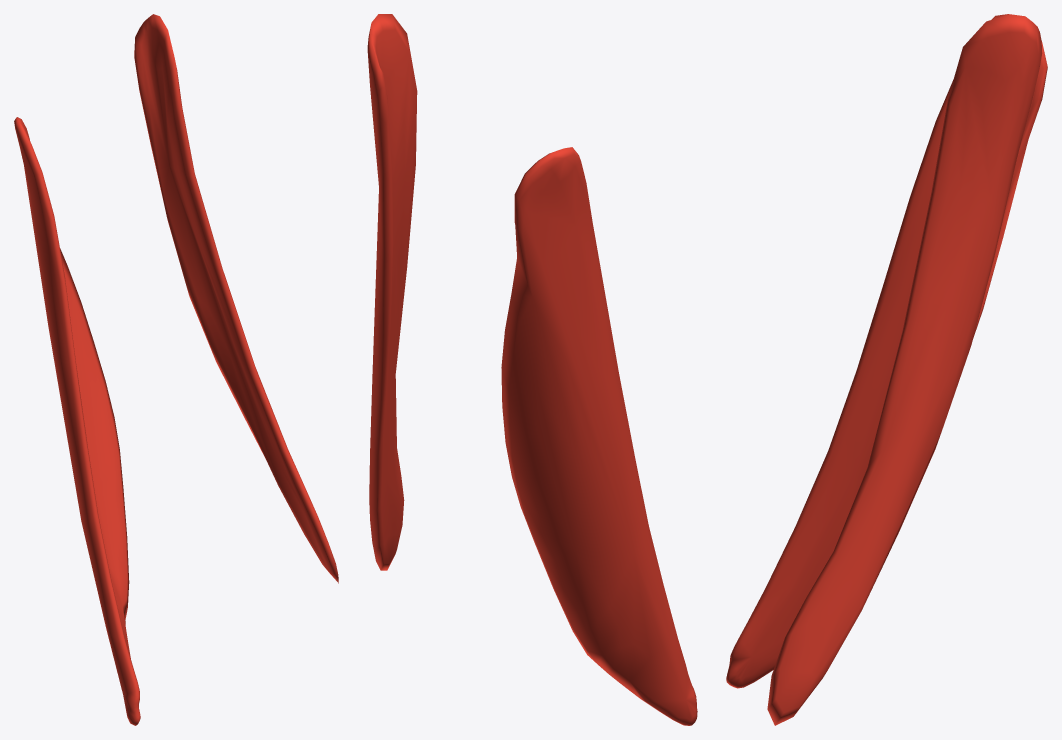
Rendered from Dorsal_interossei_3rd_metacarpal_left.glb.
3 renders of one model, left to right at view 1: azimuth 30°, elevation 25°; view 2: azimuth 150°, elevation 25°; view 3: azimuth 270°, elevation 25°, orthographic. The views are drawn at different scales.
Parts seen in each view (by area): view 1: Dorsal_interosseus_muscles_d_3d_metacarpal_bone.l_Generated_; view 2: Dorsal_interosseus_muscles_d_3d_metacarpal_bone.l_Generated_; view 3: Dorsal_interosseus_muscles_d_3d_metacarpal_bone.l_Generated_.
Part boxes in pixels (x1=…): Dorsal_interosseus_muscles_d_3d_metacarpal_bone.l_Generated_: x1=14, y1=14, x2=338, y2=725; Dorsal_interosseus_muscles_d_3d_metacarpal_bone.l_Generated_: x1=367, y1=14, x2=697, y2=725; Dorsal_interosseus_muscles_d_3d_metacarpal_bone.l_Generated_: x1=726, y1=14, x2=1047, y2=725.
Bounding box in the file's own units: 0.013 × 0.0319 × 0.0123.
